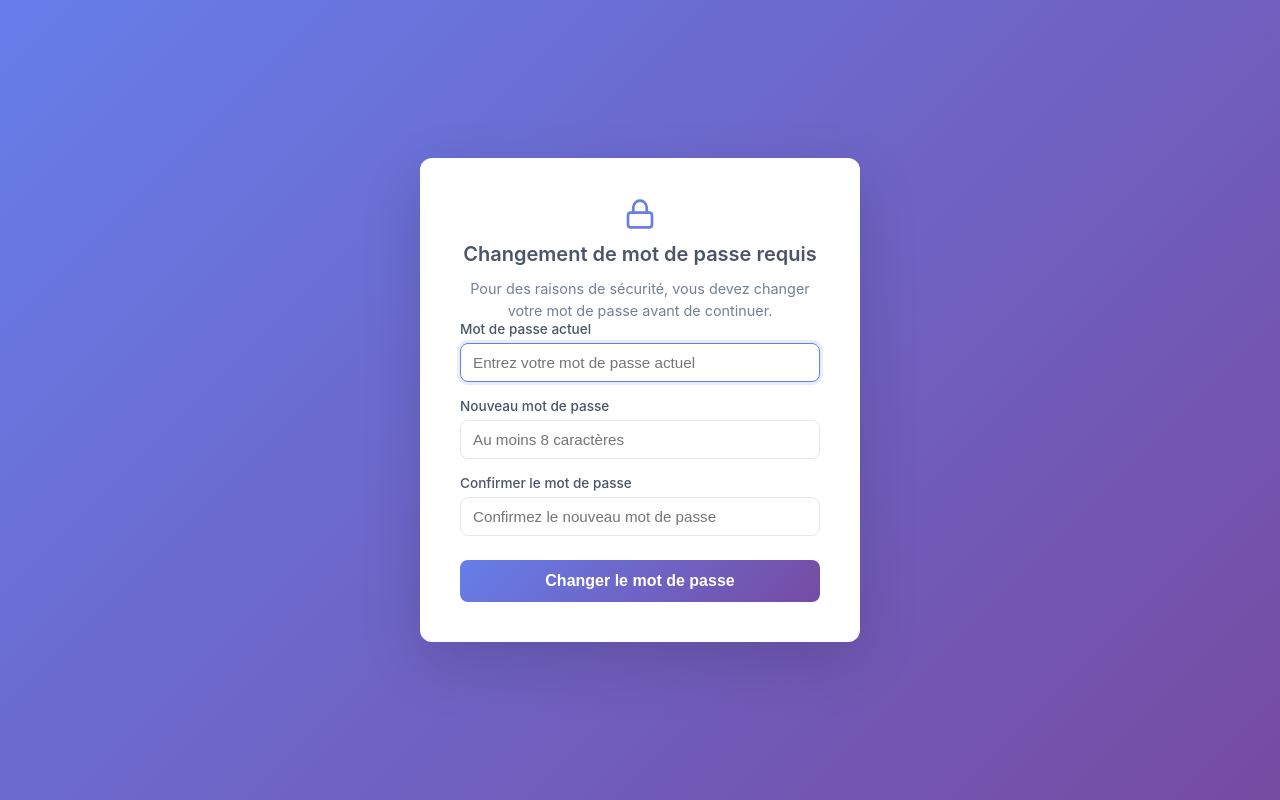
ChangePassword › shows validation error for short password
Step 1. Type "oldpass" into the password field labelled "Mot de passe actuel" → (640, 363), box [460,343,820,382]
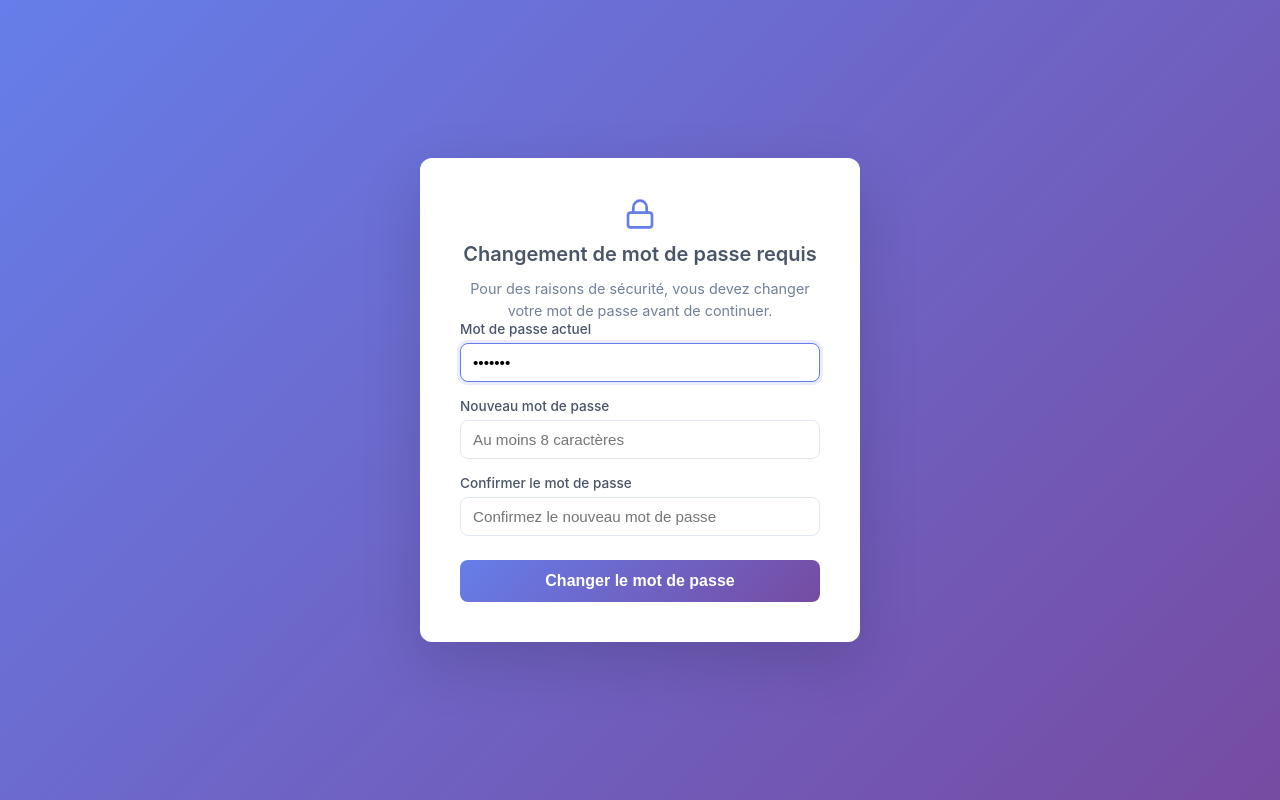
Step 2. Type "short" into the password field labelled "Nouveau mot de passe" → (640, 440), box [460,420,820,459]
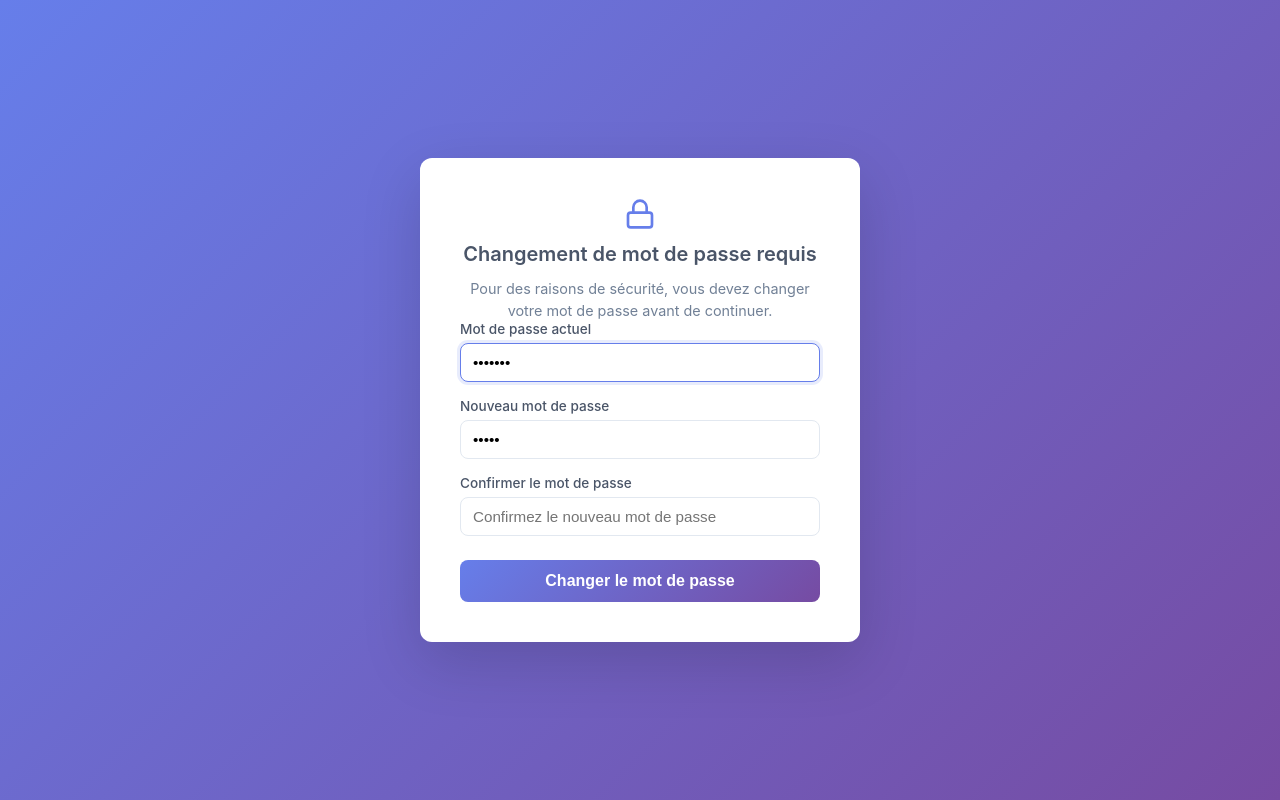
Step 3. Type "short" into the password field labelled "Confirmer le mot de passe" → (640, 517), box [460,497,820,536]
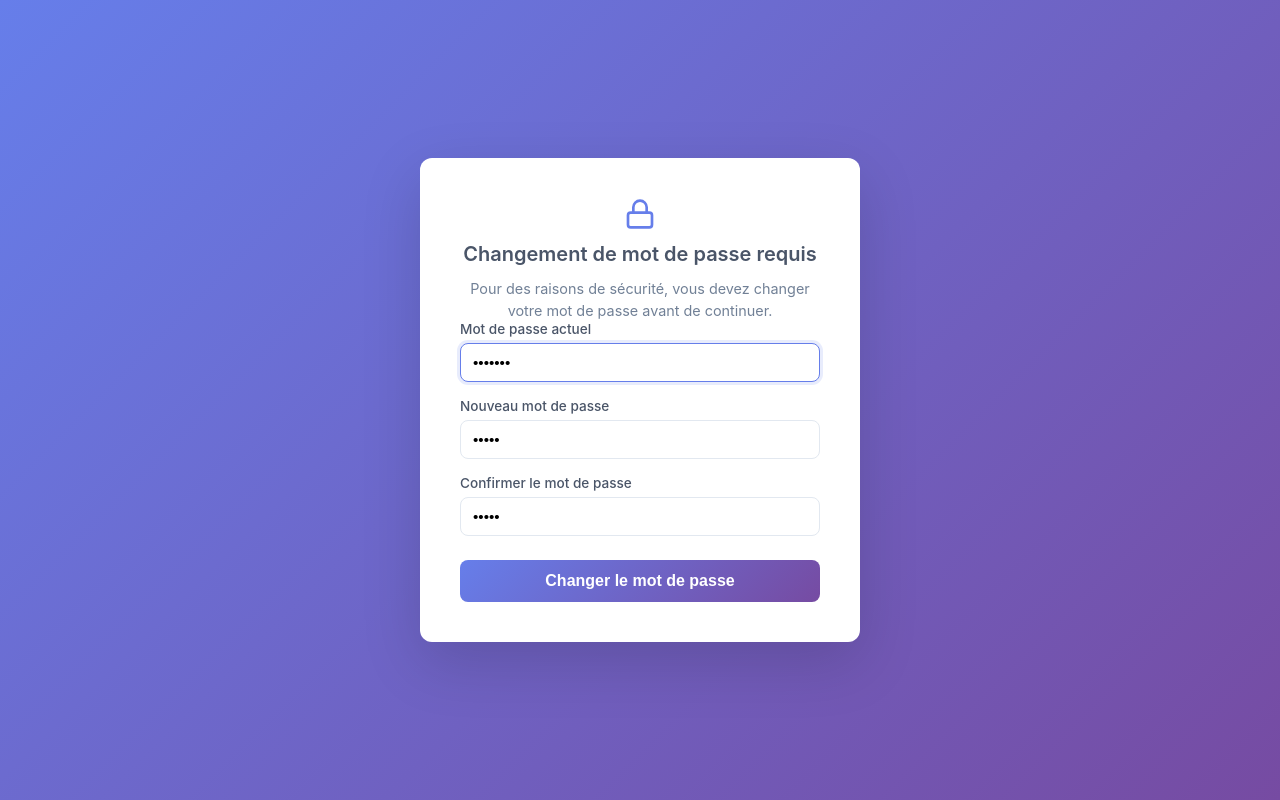
Step 4. Click the button "Changer le mot de passe" → (640, 581), box [460,560,820,602]
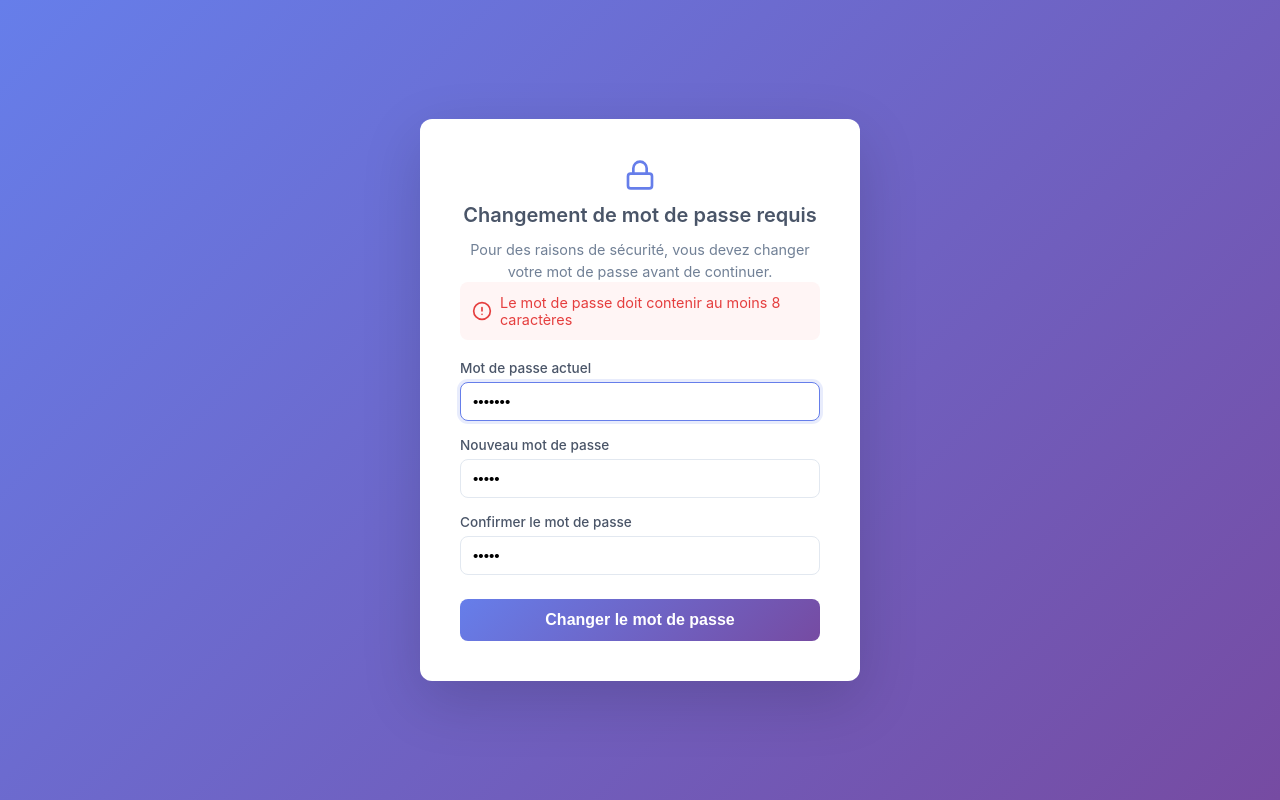
expect the text "Le mot de passe doit contenir au moins 8 caractères" is shown: met, box [500,294,808,328]
